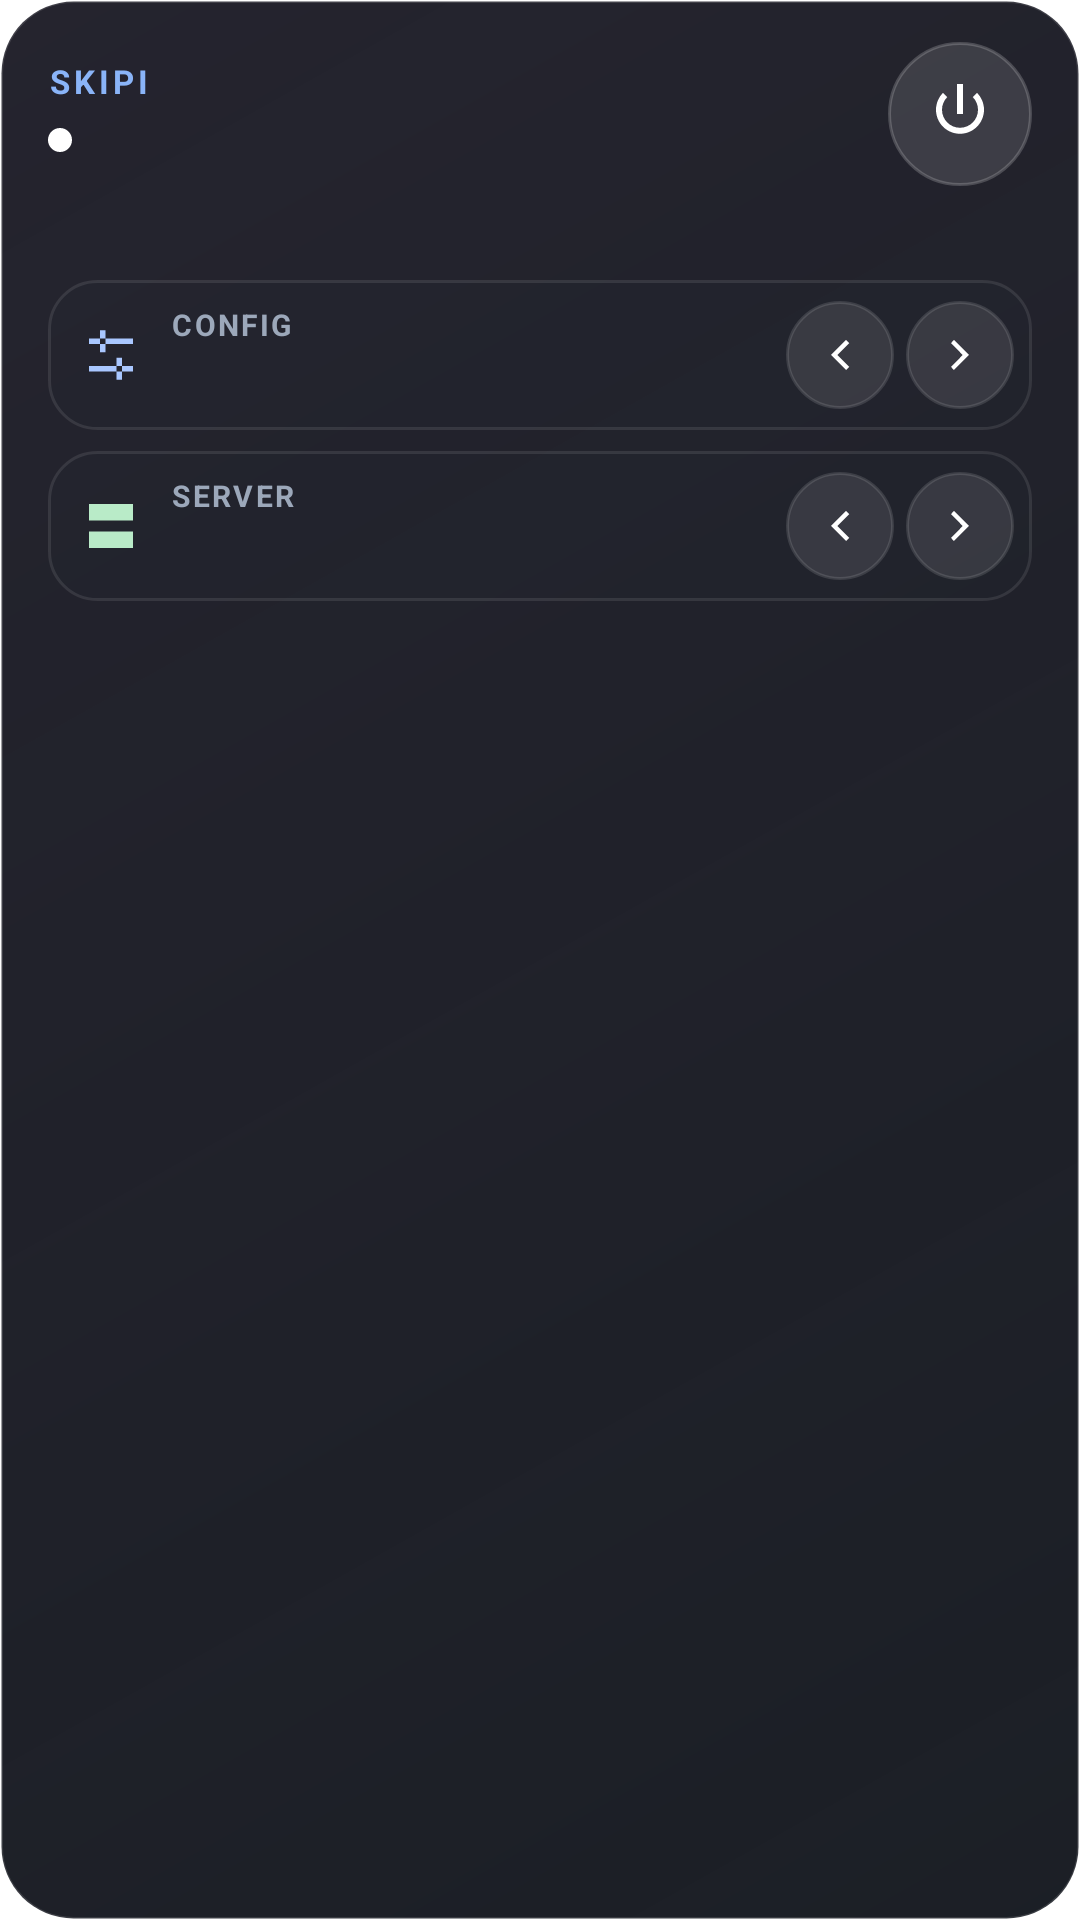

Icons on this 1080*1920 Android screen, each with its box as (x1, y1, x2, y2):
Toggle proxy: (888, 42, 1032, 186)
